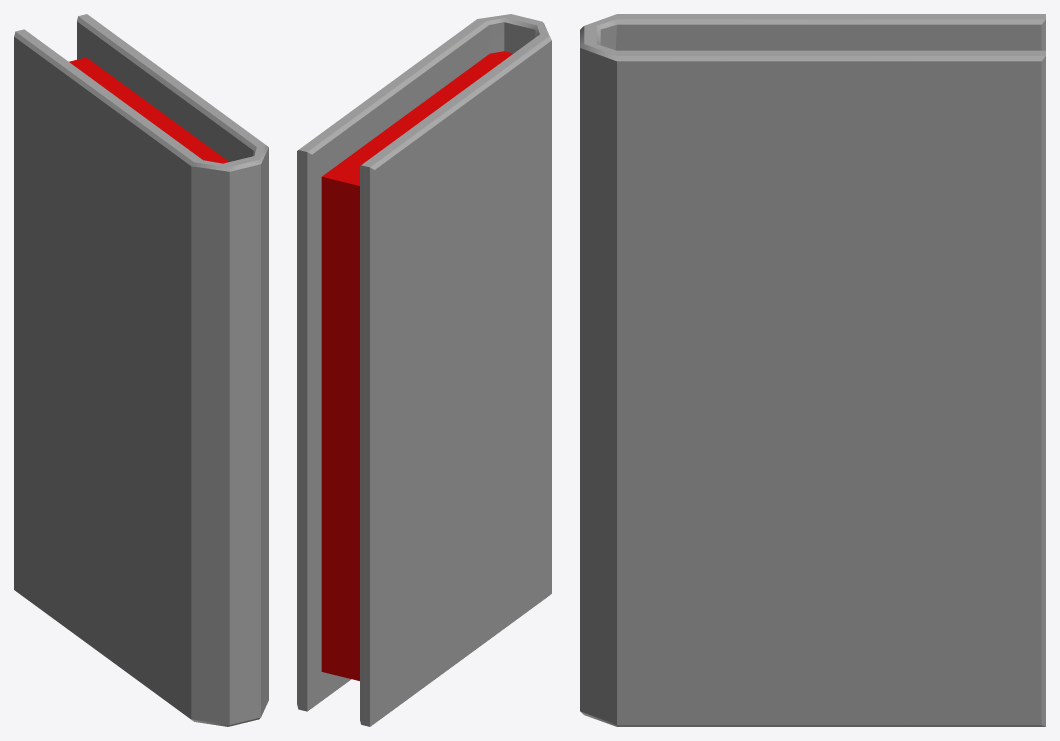
Rendered from closedbook.fbx.
3 views of the same model, side by side, from view 1: azimuth 30°, elevation 25°; view 2: azimuth 150°, elevation 25°; view 3: azimuth 270°, elevation 25° (orthographic). The views are drawn at different scales.
Parts seen in each view (by area): view 1: book; view 2: book; view 3: book.
Boxes of the visible parts, x1,y1,x2,y2 form: book: (14, 14, 268, 726); book: (297, 14, 551, 726); book: (580, 14, 1045, 726).
Bounding box in the file's own units: 1.3 × 8.95 × 5.63.
